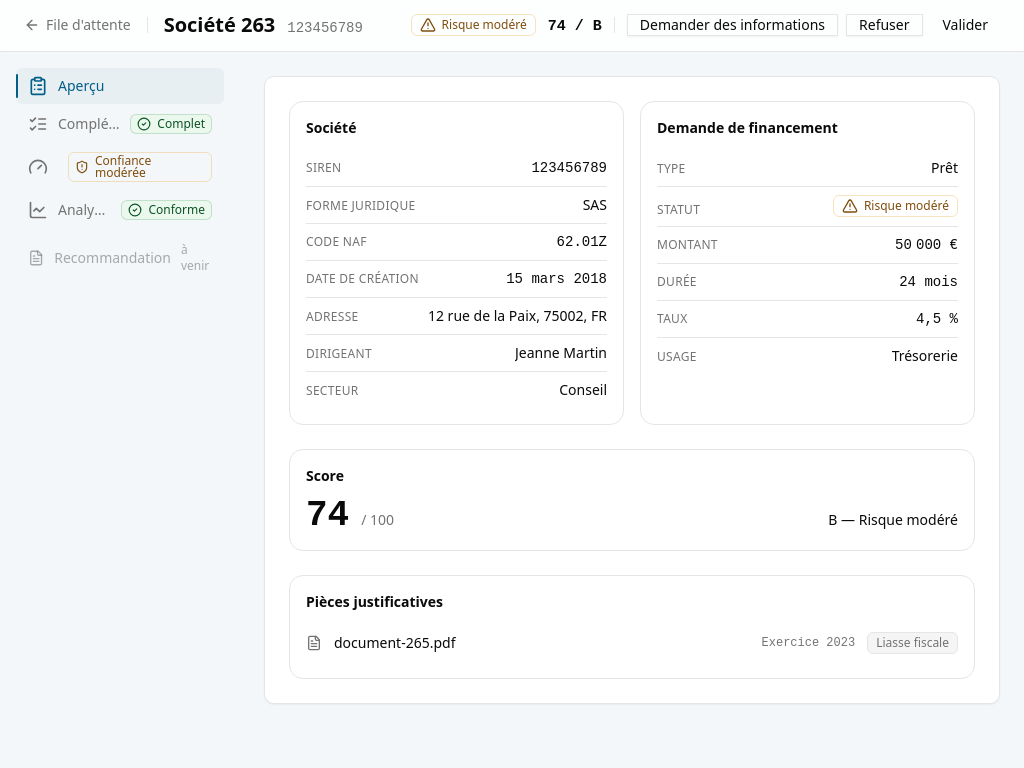
Test: Workspace — Score section › renders the score, confidence, reason, factors, check items and calibration
Step 1. Click the button named "Score" → (120, 166), box [16,144,224,190]
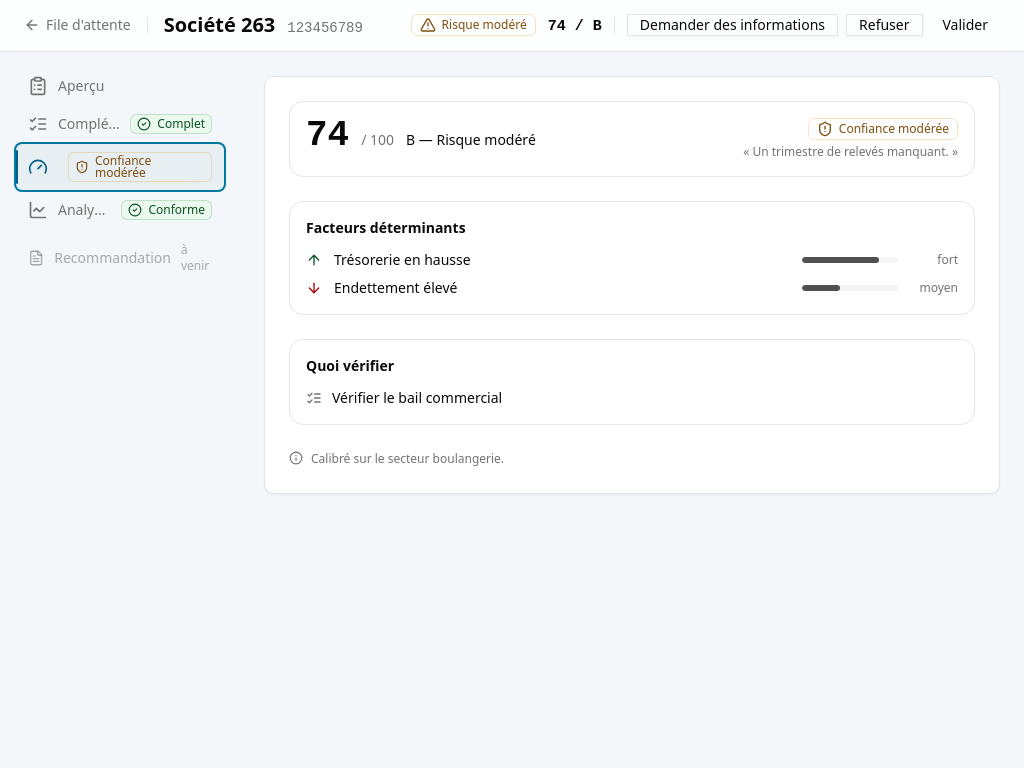
Check: the text "Confiance modérée" in the row of "/ 100" is shown, box [839,120,949,136]
Check: the text "« Un trimestre de relevés manquant. »" is shown, box [743,144,958,160]
Check: the text "Trésorerie en hausse" is shown, box [334,250,471,269]
